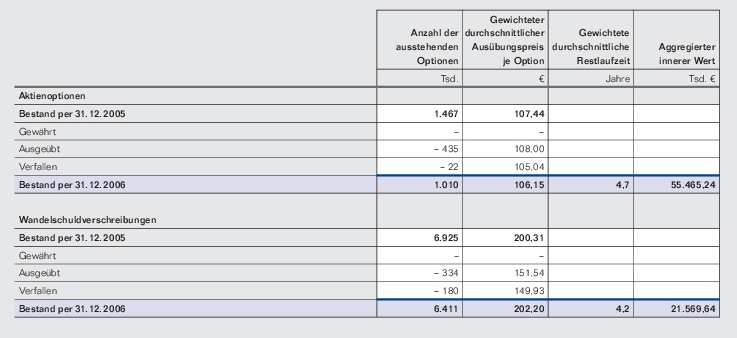table: (0, 0, 737, 338)
